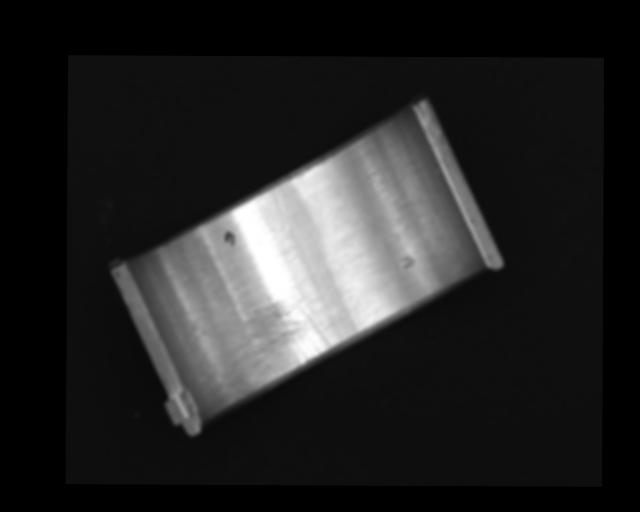blot: (223, 229, 234, 247)
bruise: (400, 255, 415, 273)
nick: (276, 189, 289, 232)
scratch: (230, 293, 330, 403)
